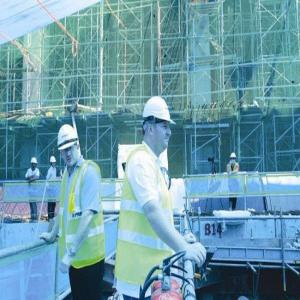white: (143, 97, 173, 154), (58, 126, 80, 168), (230, 152, 237, 164), (32, 158, 39, 170), (51, 155, 57, 168)
